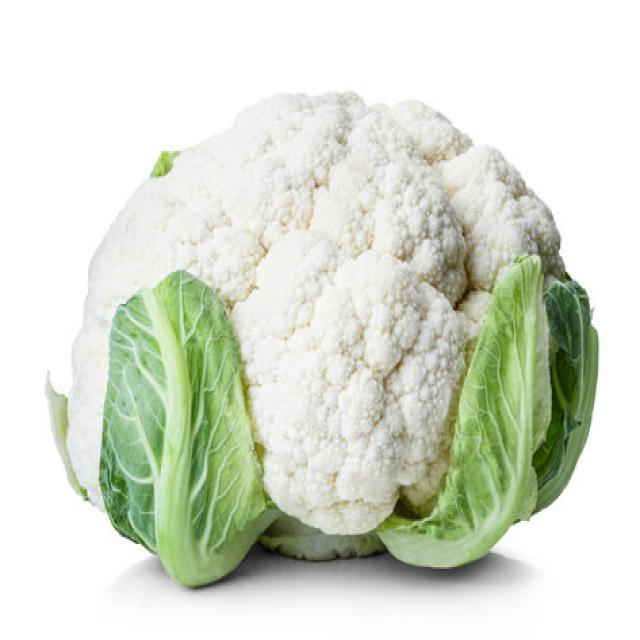Cauliflower: (64, 82, 616, 576)
